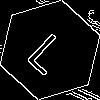L: (25, 25, 77, 77)
